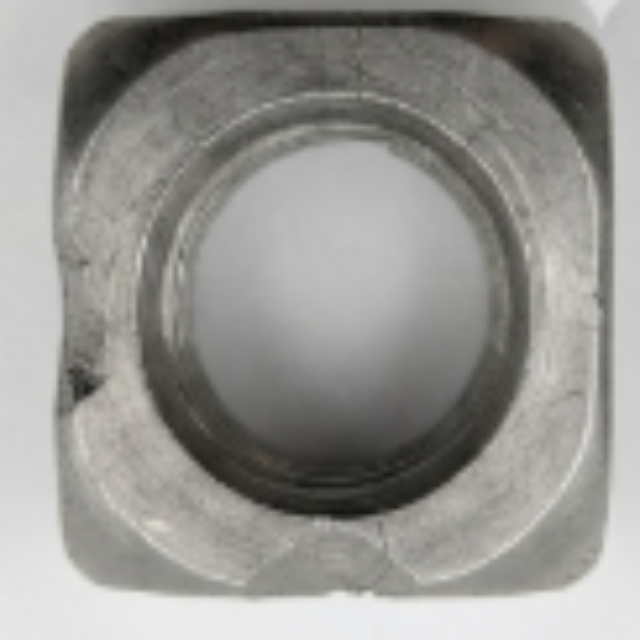defect: (38, 214, 122, 433), (238, 535, 423, 606)
